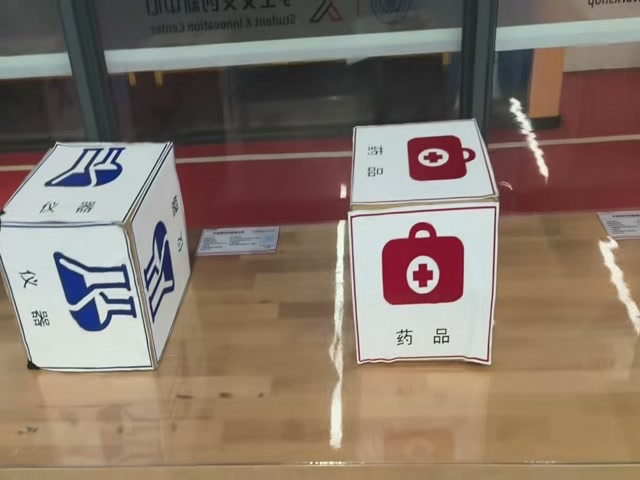Cube_ins: (0, 145, 170, 233)
Cube_medicine: (344, 122, 496, 216)
